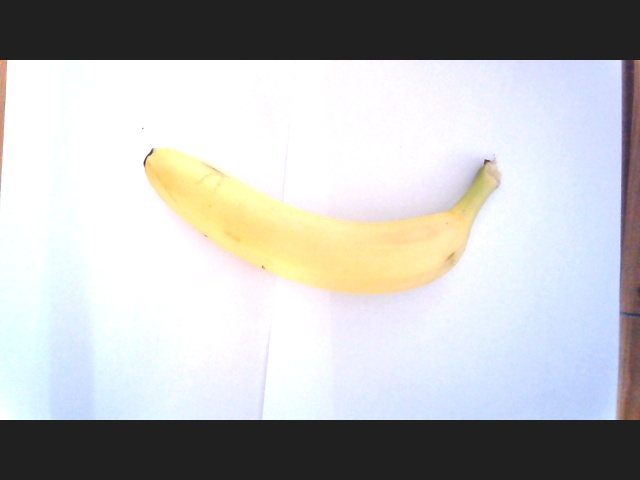banana: (131, 134, 506, 292)
